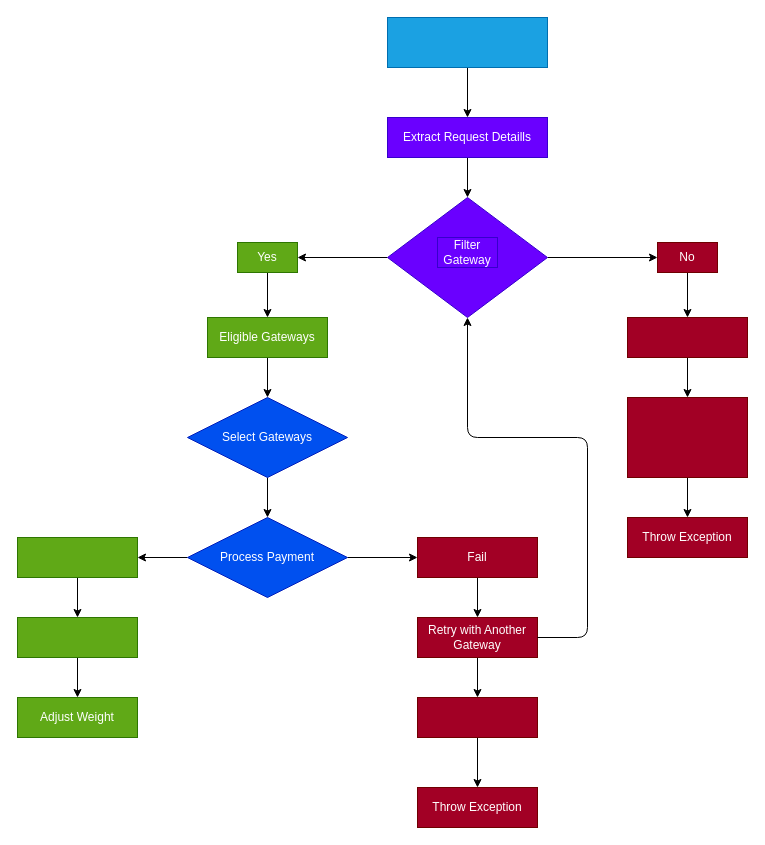
The diagram is 765 pixels wide and 845 high, and some of its shapes have lost their labels. The centre of each missing label's shape, as x and y in pixels:
"All Gateways Fail?" belongs at point (477, 717).
"No Eligible Gateways" belongs at point (687, 337).
"Receive Payment Request" belongs at point (467, 42).
"Success" belongs at point (77, 557).
"Track Unsupported Bank Requests" belongs at point (687, 437).
"Update Tracker" belongs at point (77, 637).
